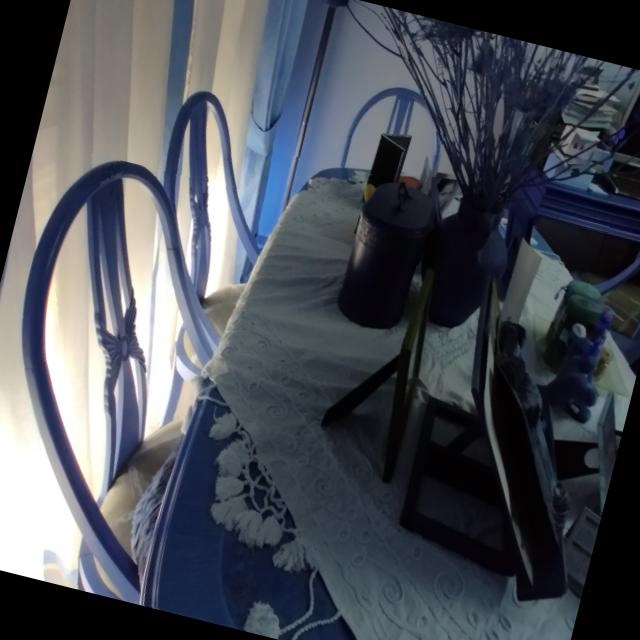chair: (22, 162, 218, 602), (163, 92, 258, 352), (341, 88, 424, 167), (595, 255, 640, 365), (431, 132, 441, 172)
stove: (156, 169, 591, 640), (538, 183, 640, 241)
